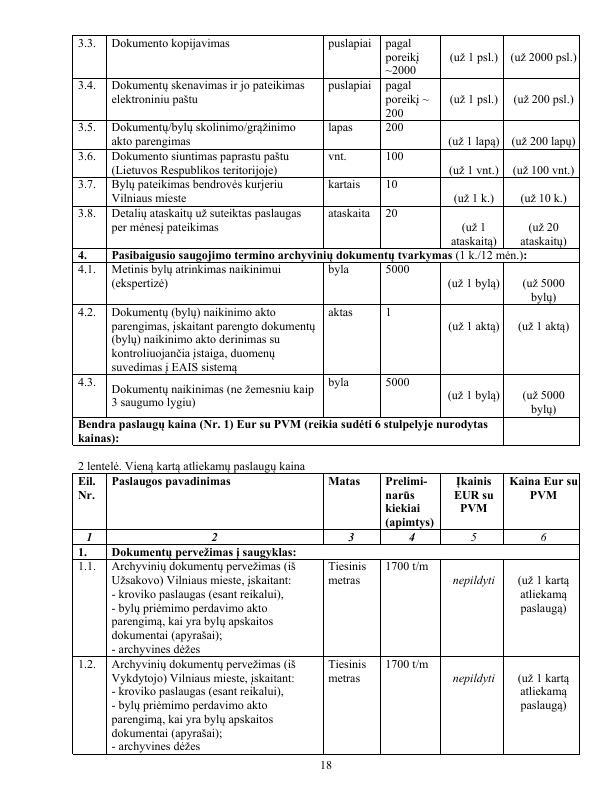table: (69, 34, 582, 450), (70, 472, 583, 759)
text: (75, 459, 306, 472)
